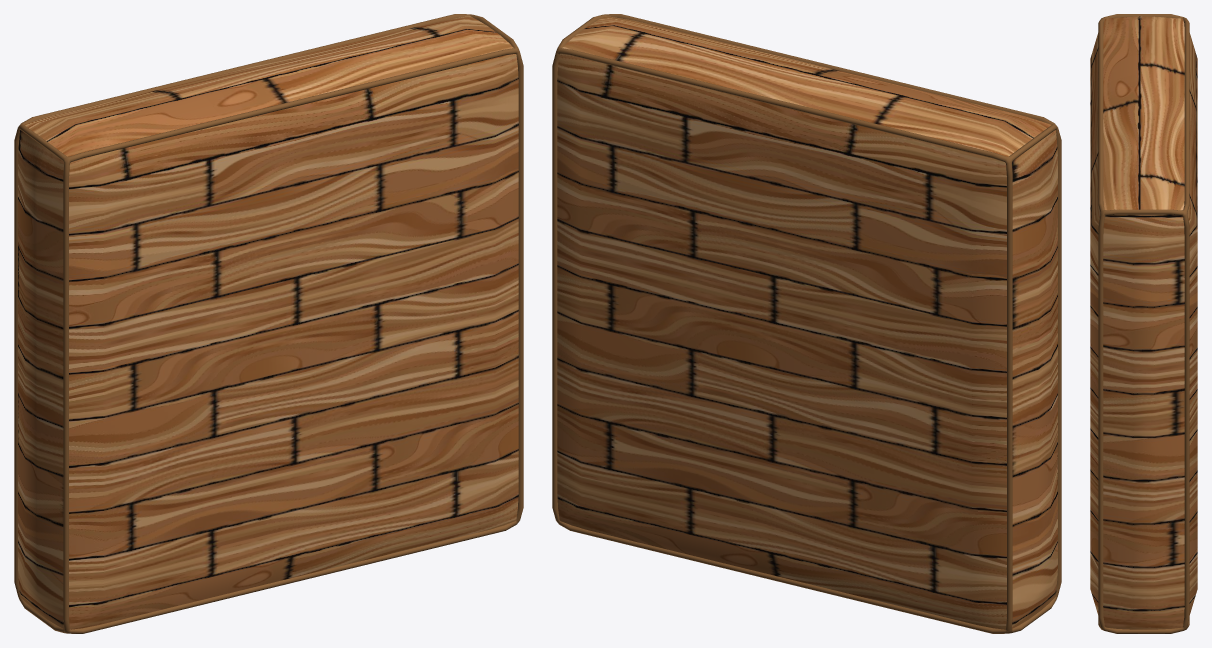
Rendered from SM_SoftFoam_Wall_20_1x1M.fbx.
3 renders of one model, left to right at view 1: azimuth 30°, elevation 25°; view 2: azimuth 150°, elevation 25°; view 3: azimuth 270°, elevation 25°, orthographic. The views are drawn at different scales.
Visible parts, largest first — view 1: SM_SoftFoam_Wall_20_1x1; view 2: SM_SoftFoam_Wall_20_1x1; view 3: SM_SoftFoam_Wall_20_1x1.
Part boxes in pixels (bbox=[...]): SM_SoftFoam_Wall_20_1x1: bbox=[14, 14, 523, 633]; SM_SoftFoam_Wall_20_1x1: bbox=[552, 14, 1061, 633]; SM_SoftFoam_Wall_20_1x1: bbox=[1090, 14, 1197, 633].
Size of the model in its own units: 90 by 90 by 20.
